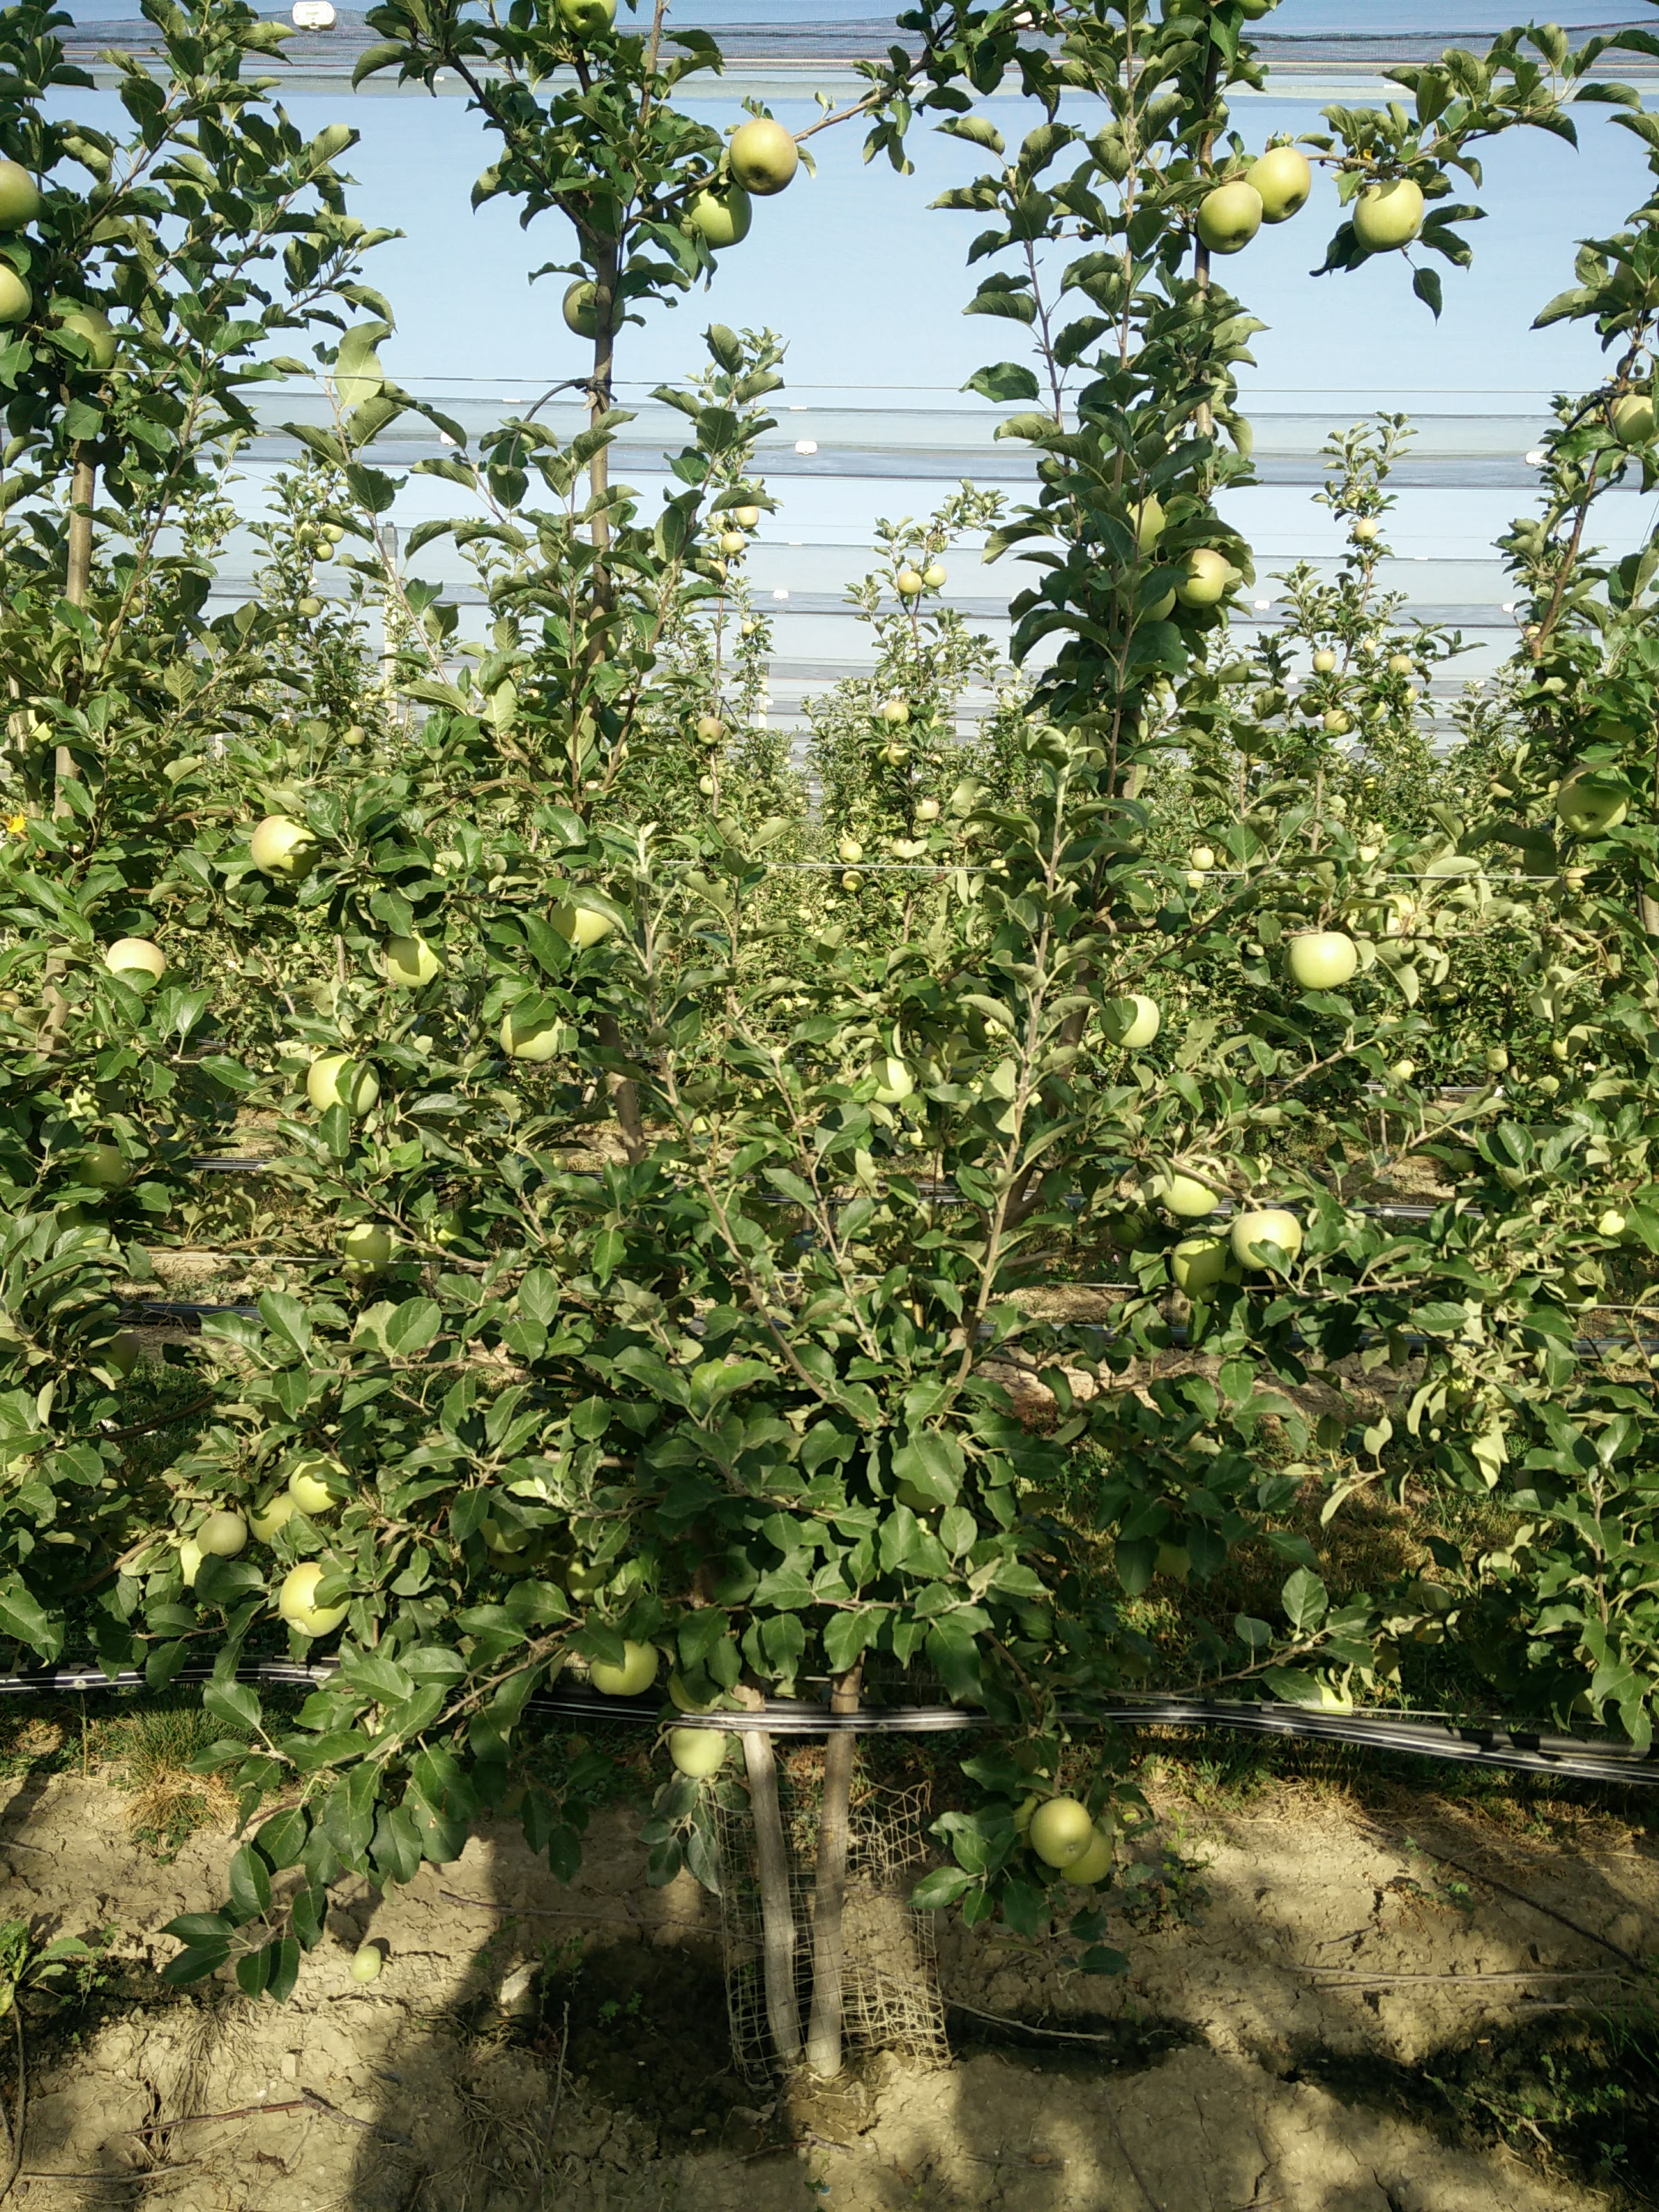apple: (299, 1044, 390, 1121), (273, 1562, 353, 1644), (719, 118, 805, 191), (1231, 1207, 1310, 1280), (678, 179, 755, 252), (1349, 179, 1427, 251), (585, 1636, 667, 1698), (1281, 926, 1360, 990), (1242, 148, 1313, 217), (1195, 181, 1263, 254), (1169, 545, 1237, 615), (1033, 1798, 1093, 1870), (247, 814, 321, 874), (665, 1719, 734, 1781), (99, 934, 175, 987), (1169, 1235, 1235, 1295), (1100, 992, 1164, 1051), (196, 1508, 252, 1564)
